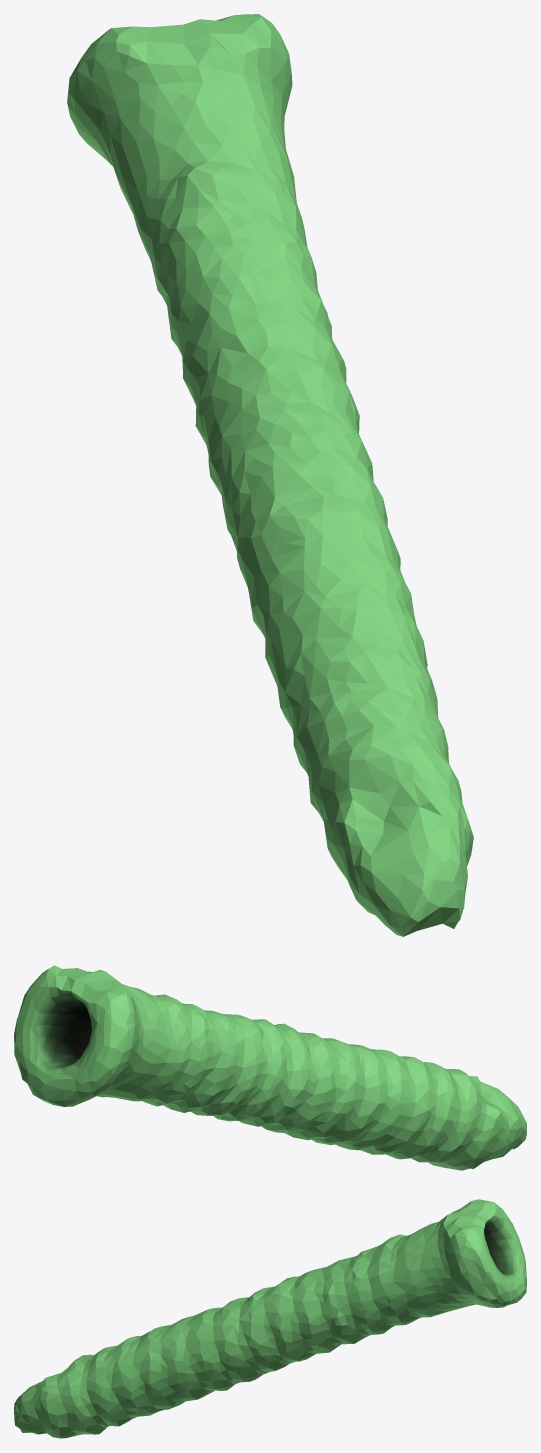
File: Geometry2_lao-local.dae
The picture shows the model from 3 angles, top to bottom: view 1: azimuth 30°, elevation 25°; view 2: azimuth 150°, elevation 25°; view 3: azimuth 270°, elevation 25°; orthographic projection. The views are drawn at different scales.
Visible parts, largest first — view 1: node; view 2: node; view 3: node.
Boxes of the visible parts, left/top/right/bottom form: node: left=67, top=14, right=473, bottom=936; node: left=14, top=965, right=526, bottom=1170; node: left=14, top=1199, right=526, bottom=1438.
Bounding box in the file's own units: 15.1 × 22.08 × 38.69.
